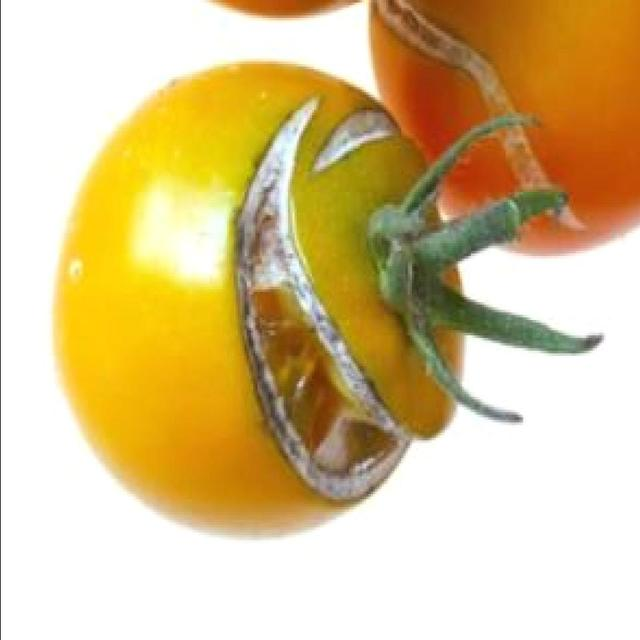Cracking Fruit: (70, 65, 324, 289)
